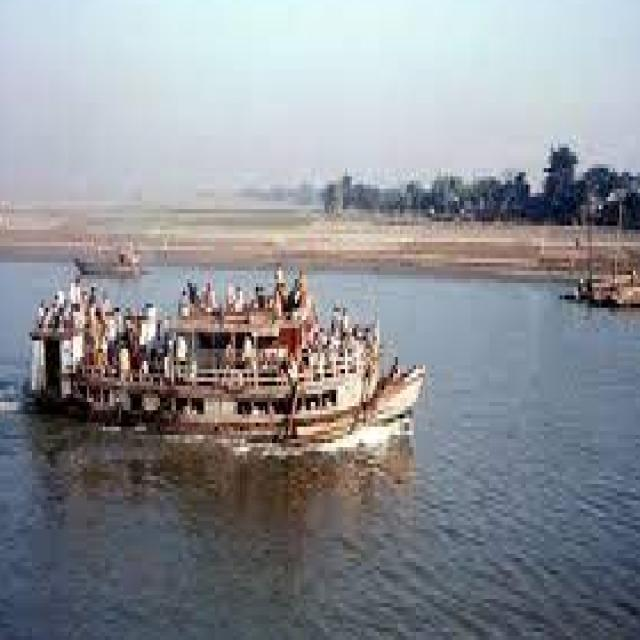houseboat: (25, 205, 425, 479)
